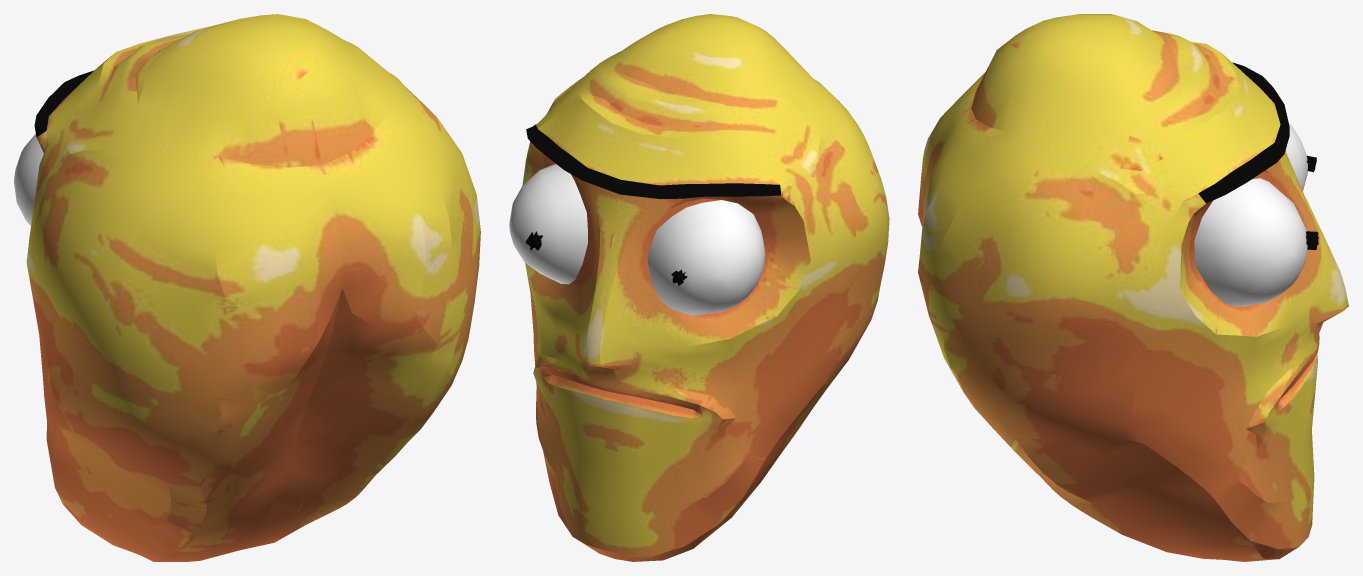
File: crom-yellow-anim.glb
The picture shows the model from 3 angles, left to right: view 1: azimuth 30°, elevation 25°; view 2: azimuth 150°, elevation 25°; view 3: azimuth 270°, elevation 25°; orthographic projection. The views are drawn at different scales.
Visible parts, largest first — view 1: head; view 2: head; view 3: head.
Boxes of the visible parts, left/top/right/bottom form: head: left=14, top=14, right=480, bottom=561; head: left=509, top=14, right=889, bottom=561; head: left=918, top=14, right=1348, bottom=561.
Size of the model in its own units: 66.64 by 91.49 by 68.71.
3 materials, 1 textured.
